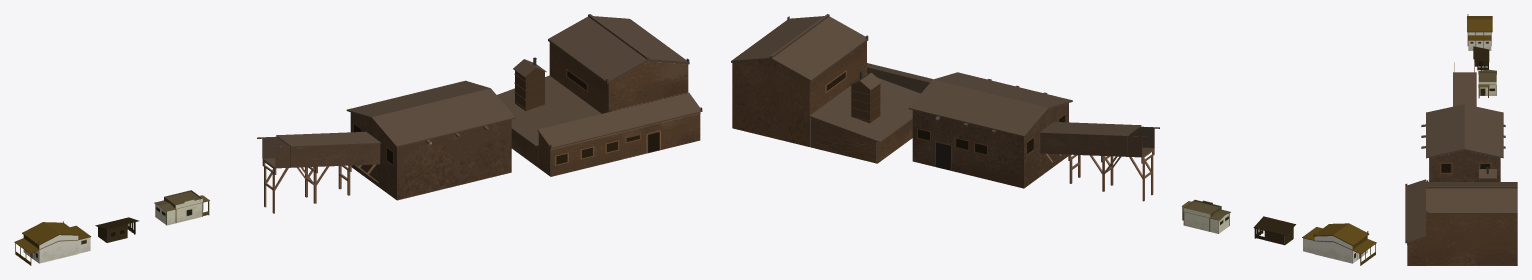
File: Estructuras Texturizadas.fbx
The picture shows the model from 3 angles, left to right: view 1: azimuth 30°, elevation 25°; view 2: azimuth 150°, elevation 25°; view 3: azimuth 270°, elevation 25°; orthographic projection. The views are drawn at different scales.
Visible parts, largest first — view 1: Oficina 1, Oficina 2, Oficina 2.001, Casa 2, Casa 1, Casa 3; view 2: Oficina 1, Oficina 2, Oficina 2.001, Casa 2, Casa 1, Casa 3; view 3: Oficina 1, Oficina 2, Casa 2, Oficina 2.001, Casa 1, Casa 3.
Part boxes in pixels (left/top/right/bottom): Oficina 1: left=497, top=14, right=702, bottom=176; Oficina 2: left=262, top=80, right=515, bottom=213; Oficina 2.001: left=257, top=131, right=381, bottom=168; Casa 2: left=14, top=221, right=91, bottom=265; Casa 1: left=154, top=190, right=209, bottom=225; Casa 3: left=95, top=217, right=138, bottom=242; Oficina 1: left=731, top=14, right=933, bottom=163; Oficina 2: left=908, top=72, right=1154, bottom=201; Oficina 2.001: left=1039, top=122, right=1159, bottom=157; Casa 2: left=1302, top=223, right=1376, bottom=265; Casa 1: left=1181, top=199, right=1230, bottom=233; Casa 3: left=1253, top=216, right=1295, bottom=245; Oficina 1: left=1405, top=167, right=1517, bottom=265; Oficina 2: left=1421, top=104, right=1505, bottom=181; Casa 2: left=1467, top=14, right=1492, bottom=50; Oficina 2.001: left=1453, top=62, right=1476, bottom=106; Casa 1: left=1478, top=69, right=1496, bottom=98; Casa 3: left=1473, top=46, right=1489, bottom=70.
Size of the model in its own units: 49378 by 6313 by 9821.
